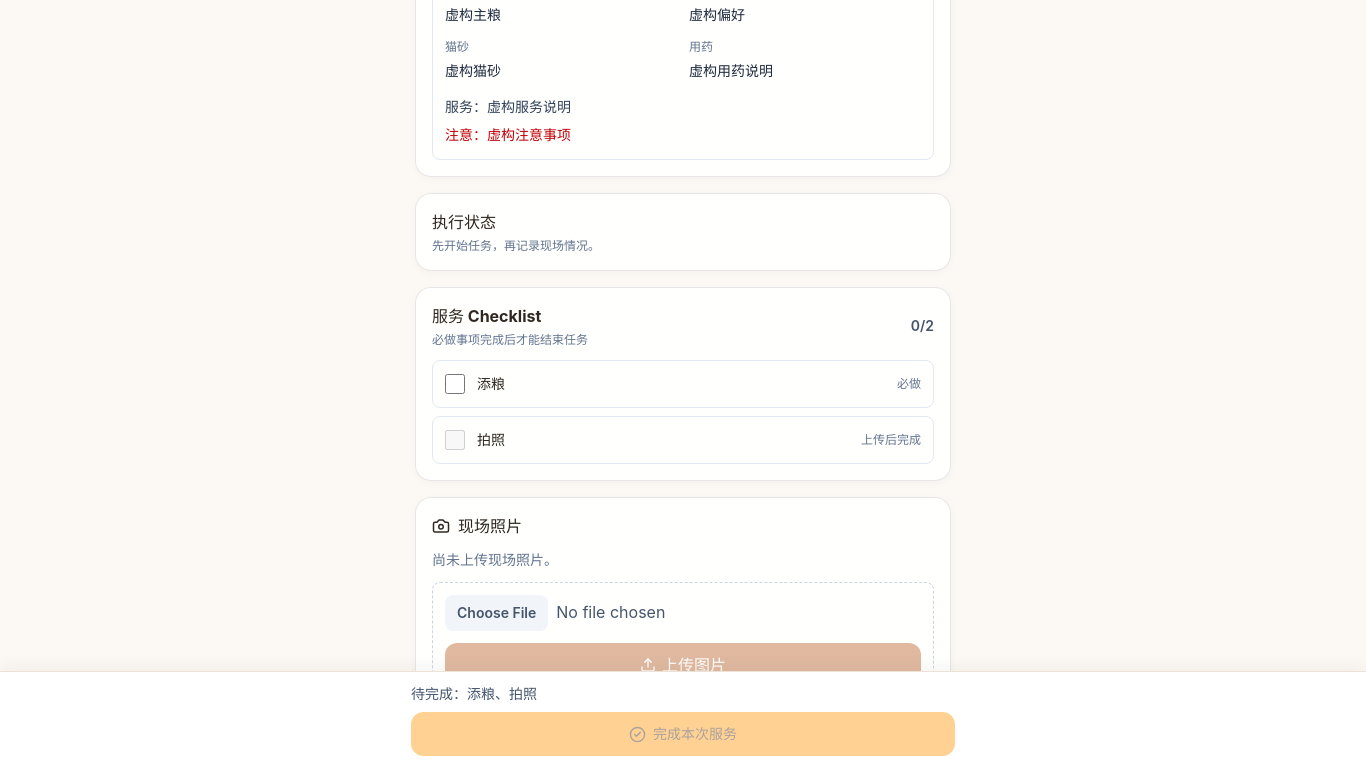
Scenario: locks write controls after a stale revision conflict
(page scrolled)
Click the checkbox named "添粮（必做）" at (455,384), box [445,374,465,394]
(page scrolled)
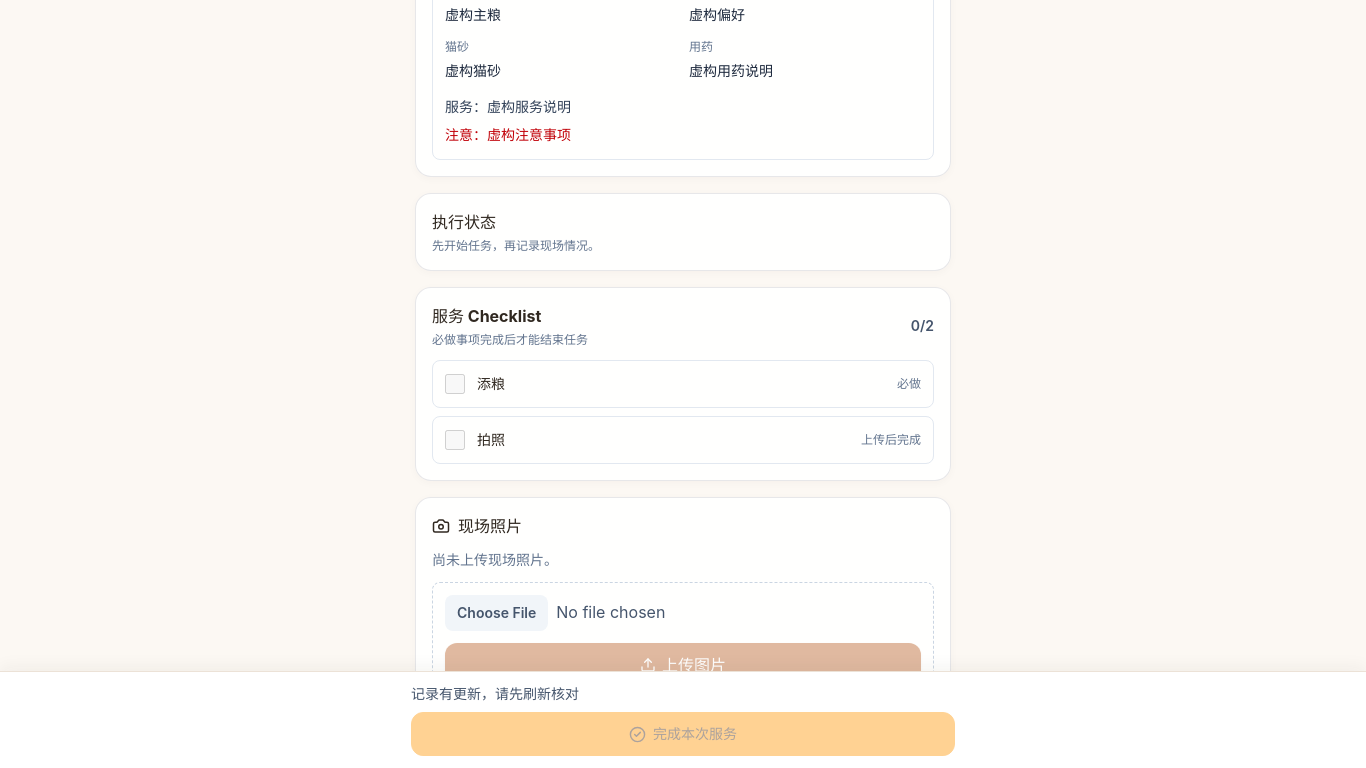
Result: the checkbox named "添粮（必做）" is disabled at [445,374,465,394]
